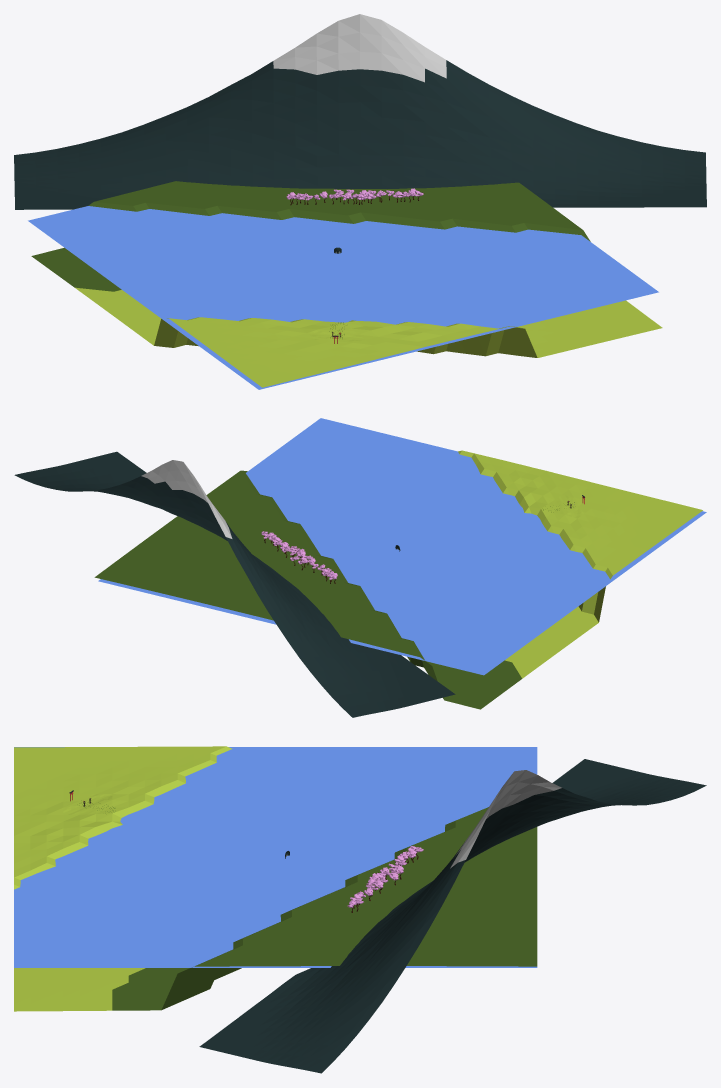
File: fondo_japones.fbx
The picture shows the model from 3 angles, top to bottom: view 1: azimuth 30°, elevation 25°; view 2: azimuth 150°, elevation 25°; view 3: azimuth 270°, elevation 25°; orthographic projection. The views are drawn at different scales.
Parts seen in each view (by area): view 1: Fondo_japones; view 2: Fondo_japones; view 3: Fondo_japones.
Part boxes in pixels (left/top/right/bottom): Fondo_japones: left=14, top=14, right=706, bottom=389; Fondo_japones: left=14, top=418, right=706, bottom=717; Fondo_japones: left=14, top=746, right=706, bottom=1073.
Size of the model in its own units: 18628 by 5260 by 16948.
